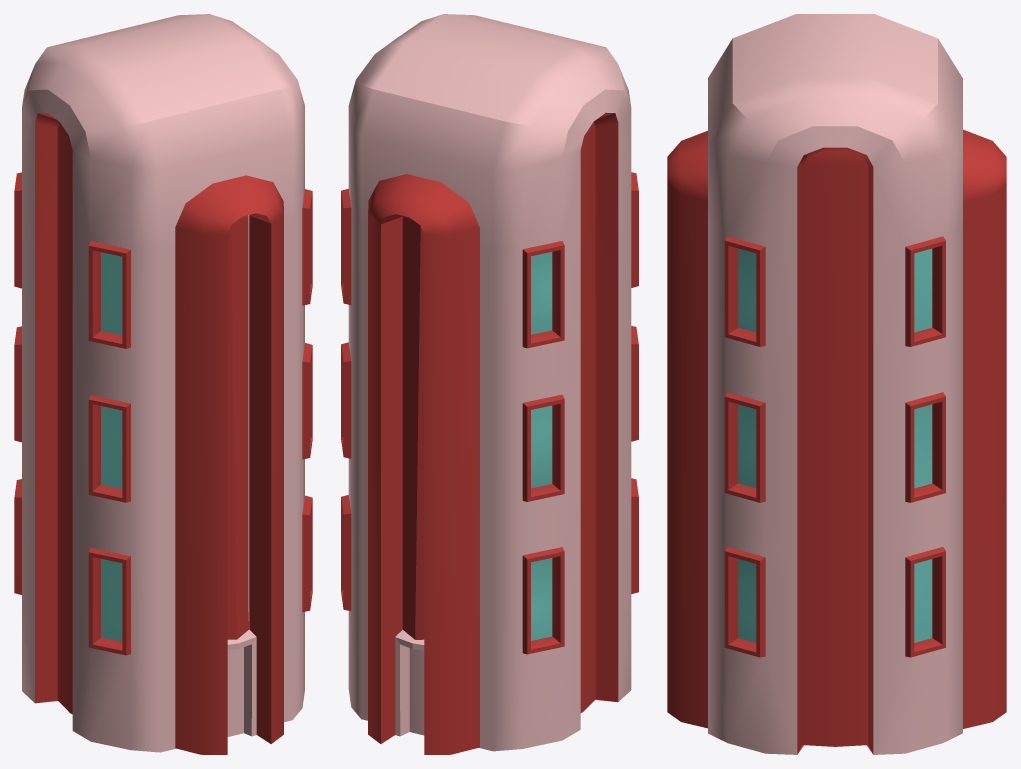
File: SM_Skyscraper_15.fbx
The picture shows the model from 3 angles, left to right: view 1: azimuth 30°, elevation 25°; view 2: azimuth 150°, elevation 25°; view 3: azimuth 270°, elevation 25°; orthographic projection.
Visible parts, largest first — view 1: SM_Skyscraper_15; view 2: SM_Skyscraper_15; view 3: SM_Skyscraper_15.
Part boxes in pixels (left/top/right/bottom): SM_Skyscraper_15: left=14, top=14, right=312, bottom=754; SM_Skyscraper_15: left=341, top=14, right=638, bottom=754; SM_Skyscraper_15: left=667, top=14, right=1006, bottom=754.
Bounding box in the file's own units: 828 × 2284 × 1073.
